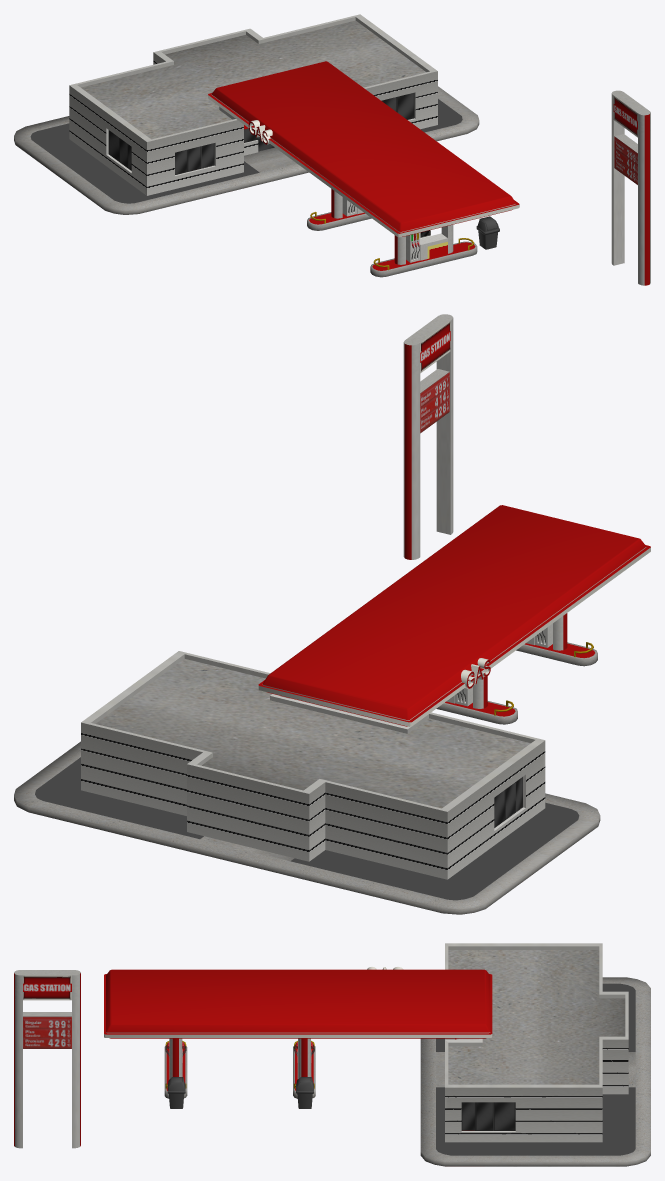
File: gas_station.glb
3 renders of one model, top to bottom at view 1: azimuth 30°, elevation 25°; view 2: azimuth 150°, elevation 25°; view 3: azimuth 270°, elevation 25°, orthographic. The views are drawn at different scales.
Visible parts, largest first — view 1: Box014; view 2: Box014; view 3: Box014.
Boxes of the visible parts, x1,y1,x2,y2 form: Box014: (14, 14, 650, 285); Box014: (14, 314, 650, 914); Box014: (14, 943, 650, 1166).
Bounding box in the file's own units: 20.57 × 8.98 × 29.99.
1 material, 1 textured.
